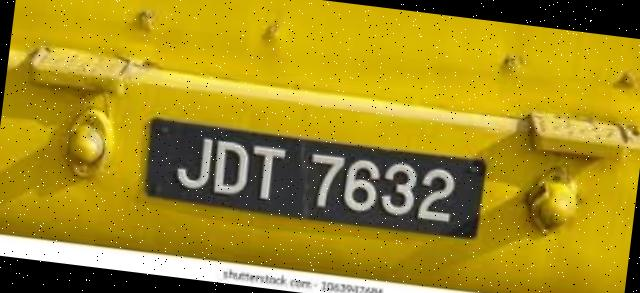License_Plate: (132, 99, 496, 265)
